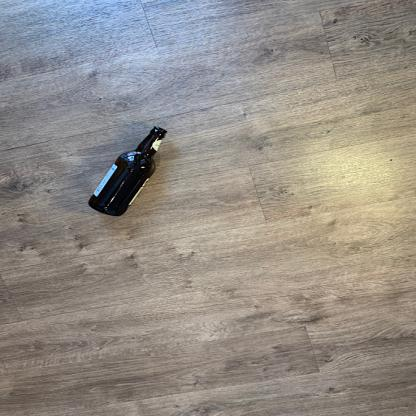trash: (86, 124, 172, 220)
